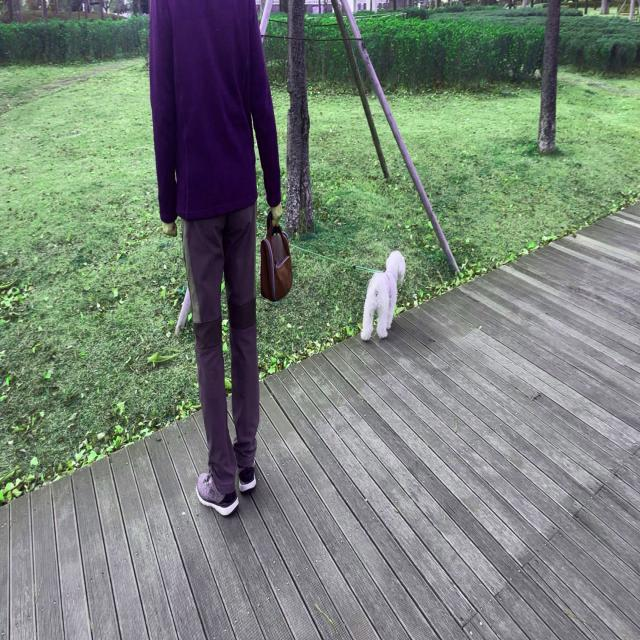Leashed_Dog: (217, 198, 406, 341)
